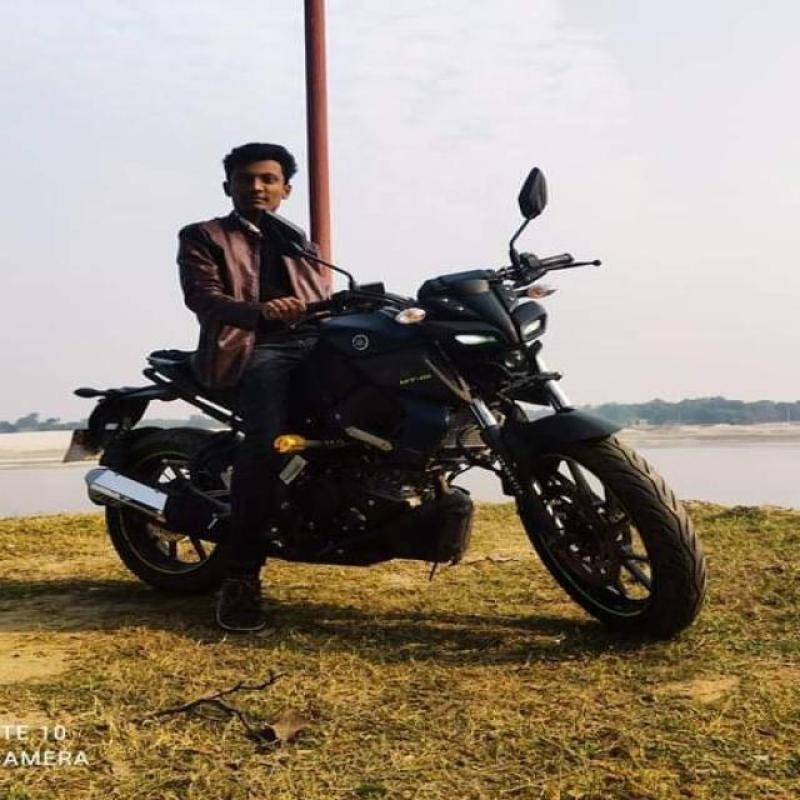nohelmet: (226, 140, 318, 214)
